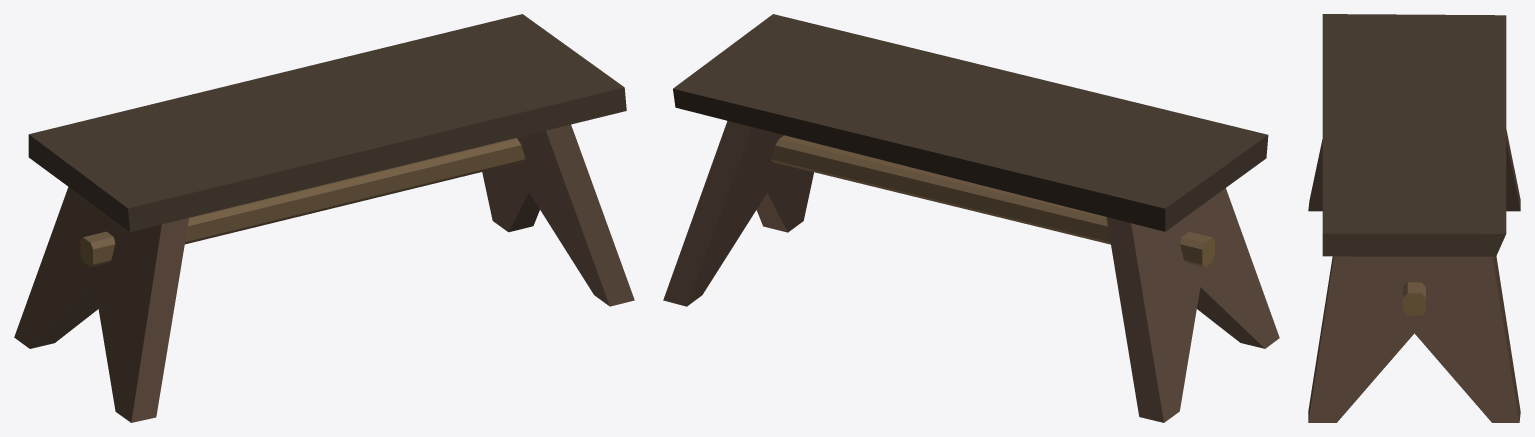
The model's file is Bench.fbx.
3 views of the same model, side by side, from view 1: azimuth 30°, elevation 25°; view 2: azimuth 150°, elevation 25°; view 3: azimuth 270°, elevation 25° (orthographic). The views are drawn at different scales.
Parts seen in each view (by area): view 1: polySurface1881; view 2: polySurface1881; view 3: polySurface1881.
Boxes of the visible parts, <box> form: polySurface1881: <box>14,14,634,422</box>; polySurface1881: <box>663,14,1279,422</box>; polySurface1881: <box>1308,14,1520,422</box>.
Bounding box in the file's own units: 158 × 62.26 × 63.6.
